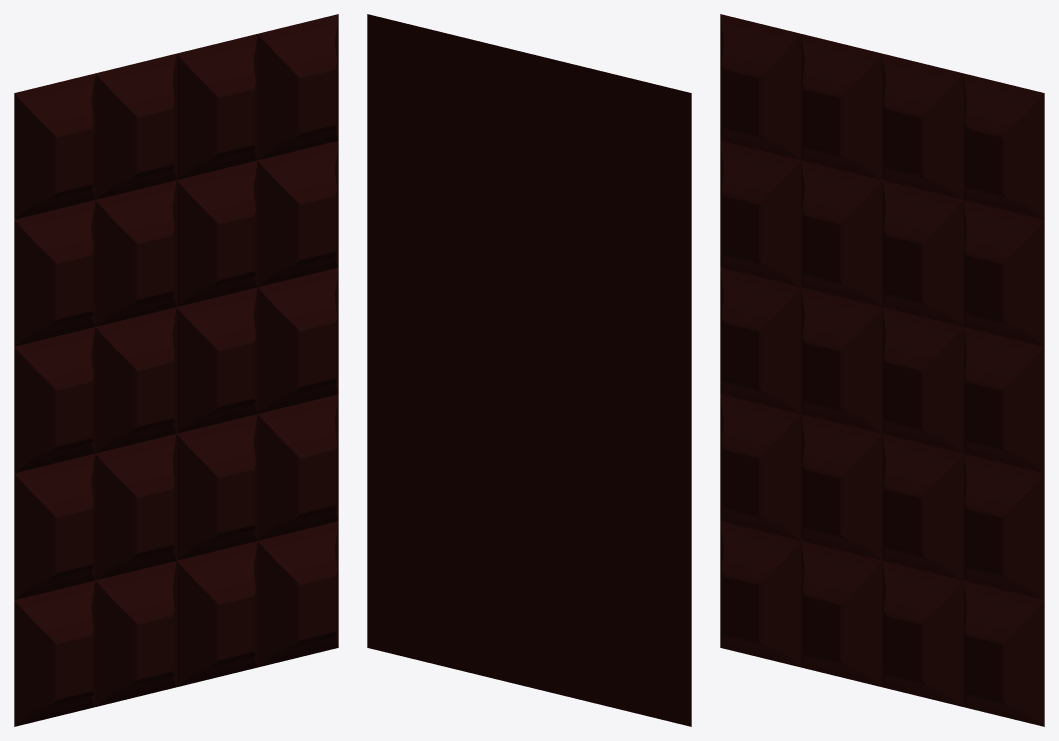
Rendered from dark_chocolate.glb.
The picture shows the model from 3 angles, left to right: view 1: azimuth 30°, elevation 25°; view 2: azimuth 150°, elevation 25°; view 3: azimuth 330°, elevation 25°; orthographic projection.
Parts seen in each view (by area): view 1: Cube_0; view 2: Cube_0; view 3: Cube_0.
Boxes of the visible parts, box(x1,y1,x2,y2) form: Cube_0: box(14, 14, 338, 726); Cube_0: box(367, 14, 691, 726); Cube_0: box(720, 14, 1044, 726).
Size of the model in its own units: 3.32 by 6.2 by 0.3439.
